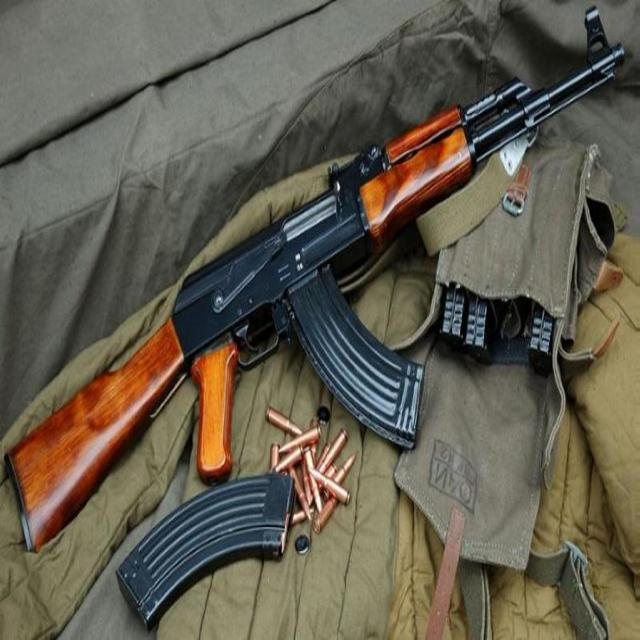weapon: (5, 5, 626, 553)
